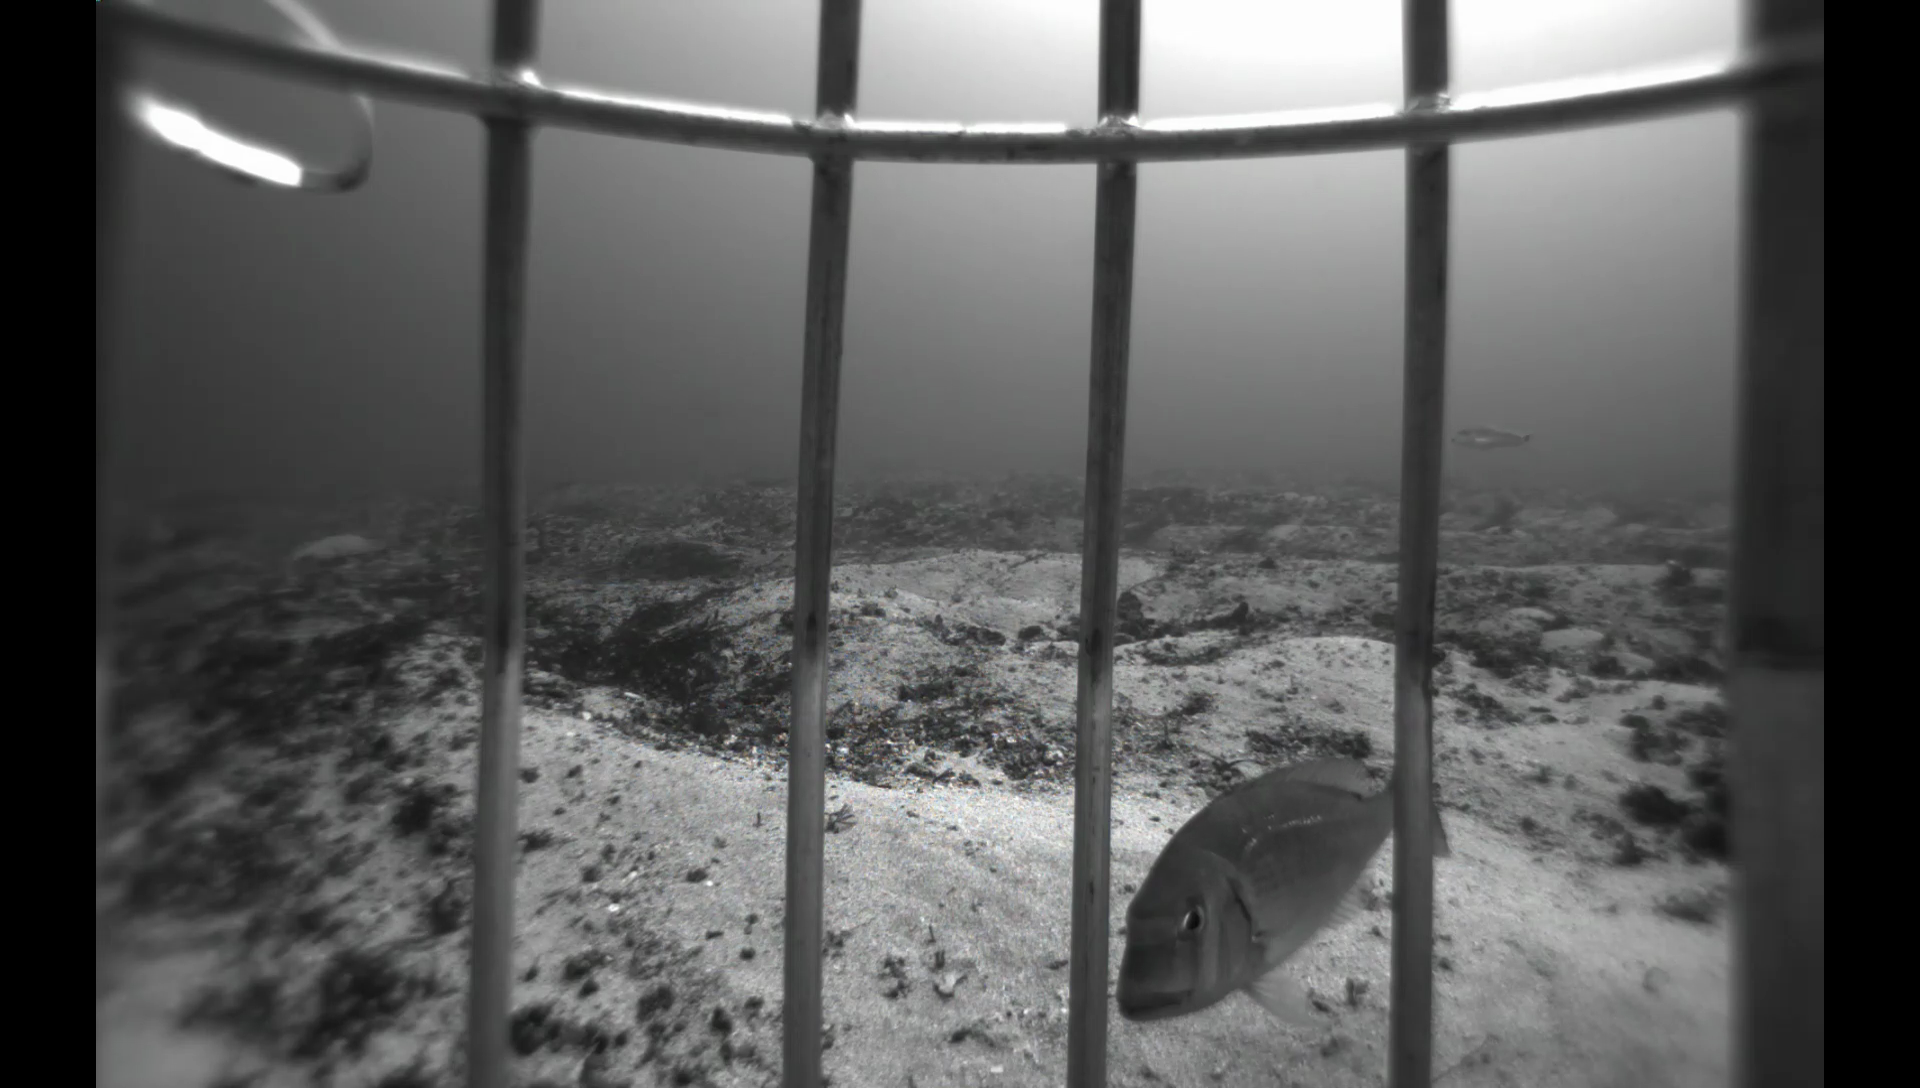MALACANTHUSPLUMIERI-170070301: (1447, 422, 1540, 455)
PAGRUSPAGRUS-170212302: (1113, 721, 1455, 1039)
POMACANTHUSARCUATUS-170290201: (113, 499, 179, 568)
